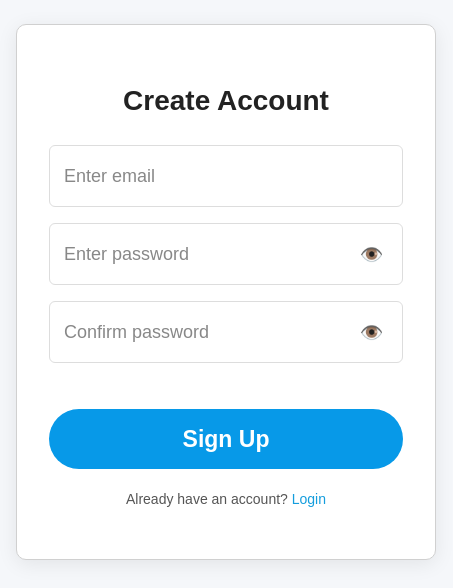
Signup Page › 6. shows error when passwords do not match
Type "test@example.com" into the field with placeholder "Enter email" at (226, 176), box [49,145,403,207]
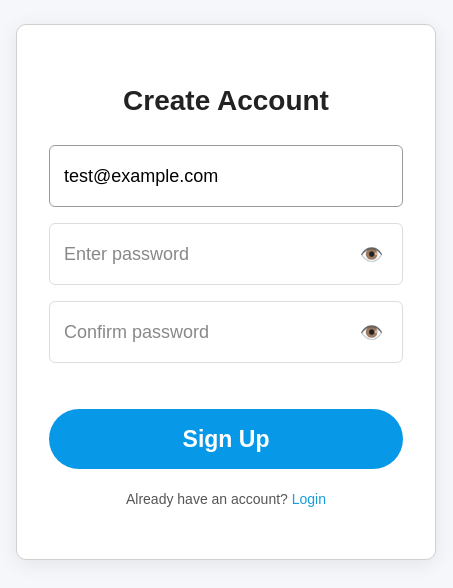
Type "password123" into the password field with placeholder "Enter password" at (226, 254), box [49,223,403,285]
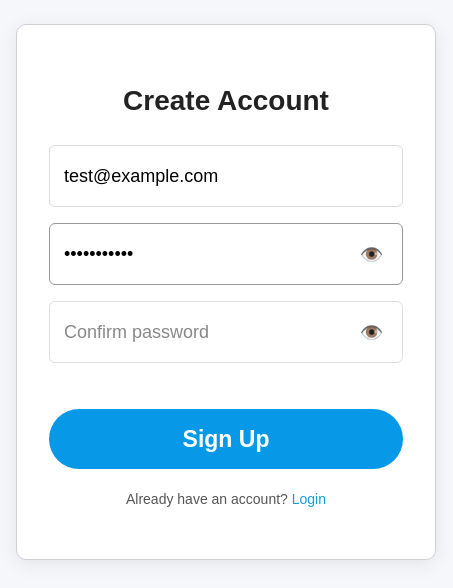
Type "different123" into the password field with placeholder "Confirm password" at (226, 332), box [49,301,403,363]
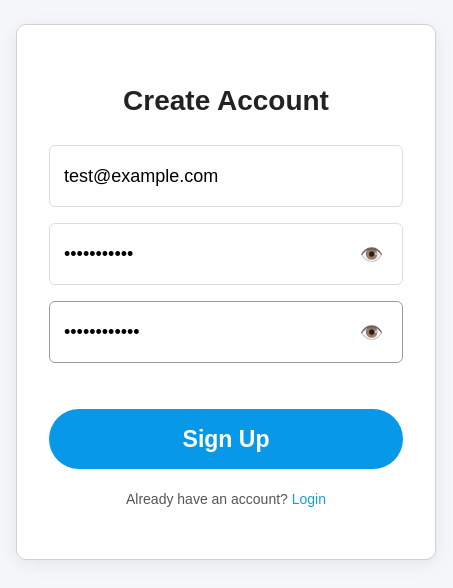
Click the button "Sign Up" at (226, 439), box [49,409,403,469]
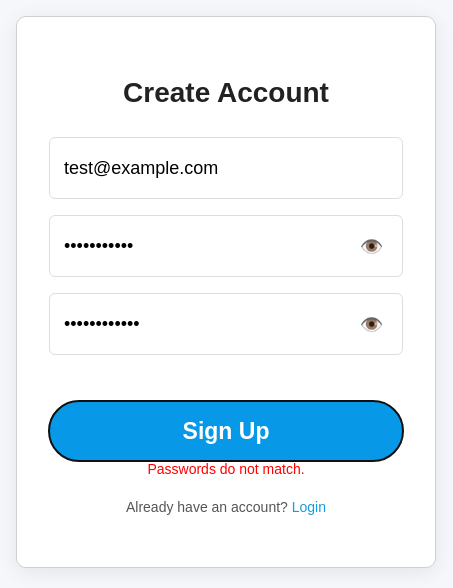
Check: the text "Passwords do not match." is shown, box [147,461,305,477]
